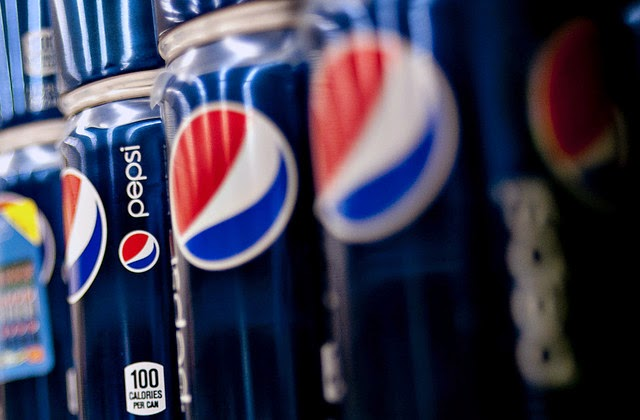can: (148, 11, 333, 420), (45, 60, 209, 420)
